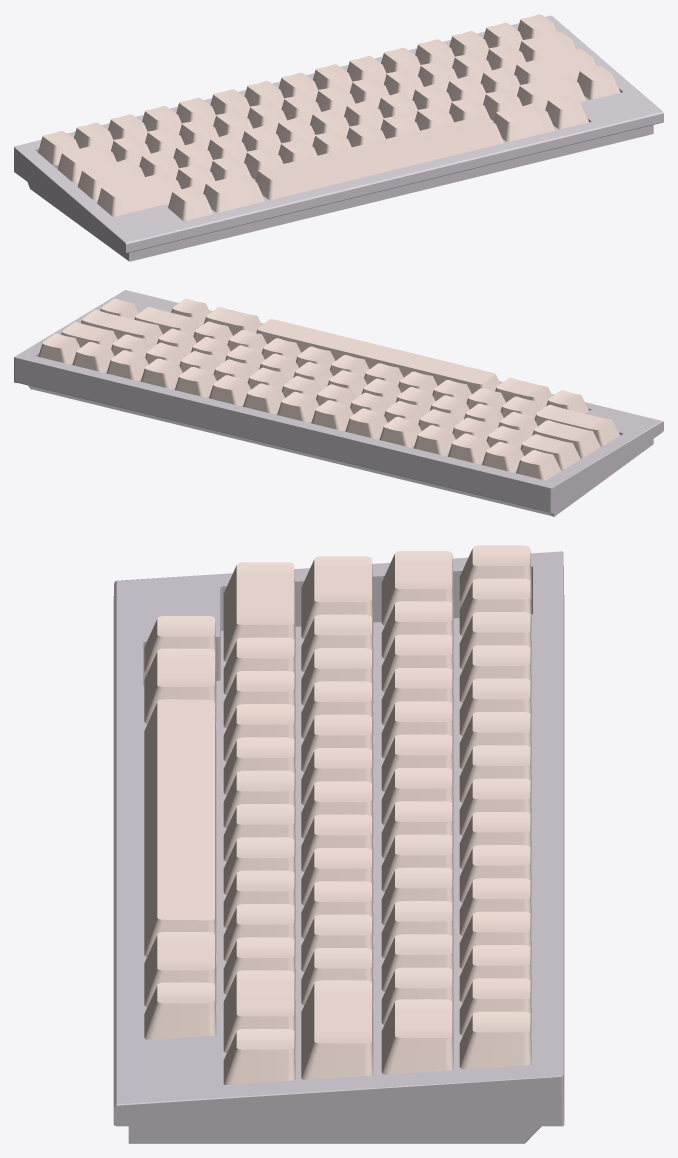
File: my_keyboard_postjoin.gltf
The picture shows the model from 3 angles, top to bottom: view 1: azimuth 30°, elevation 25°; view 2: azimuth 150°, elevation 25°; view 3: azimuth 270°, elevation 25°; orthographic projection. The views are drawn at different scales.
Visible parts, largest first — view 1: Plane.002; view 2: Plane.002; view 3: Plane.002.
Part boxes in pixels (x1,y1,x2,y2): Plane.002: [14, 14, 663, 261]; Plane.002: [14, 290, 663, 516]; Plane.002: [113, 545, 564, 1143].
Size of the model in its own units: 15.71 by 1.39 by 5.7.
